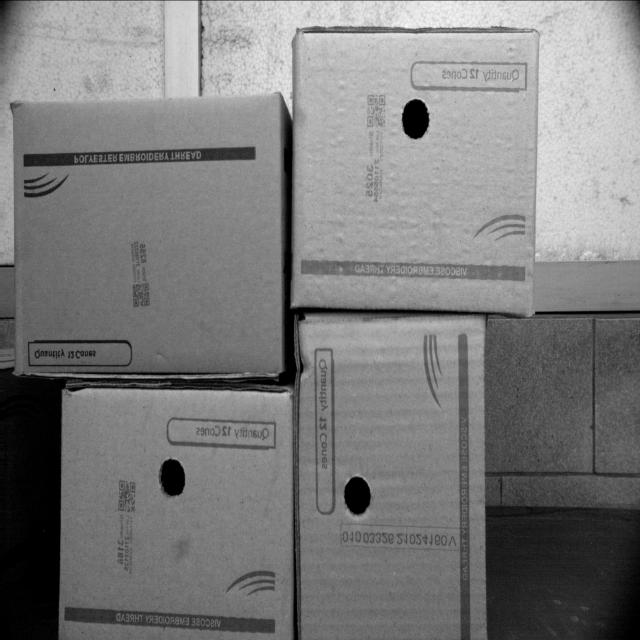cardboxes: (12, 99, 284, 373), (293, 31, 532, 312), (298, 314, 487, 639), (59, 383, 293, 639)
